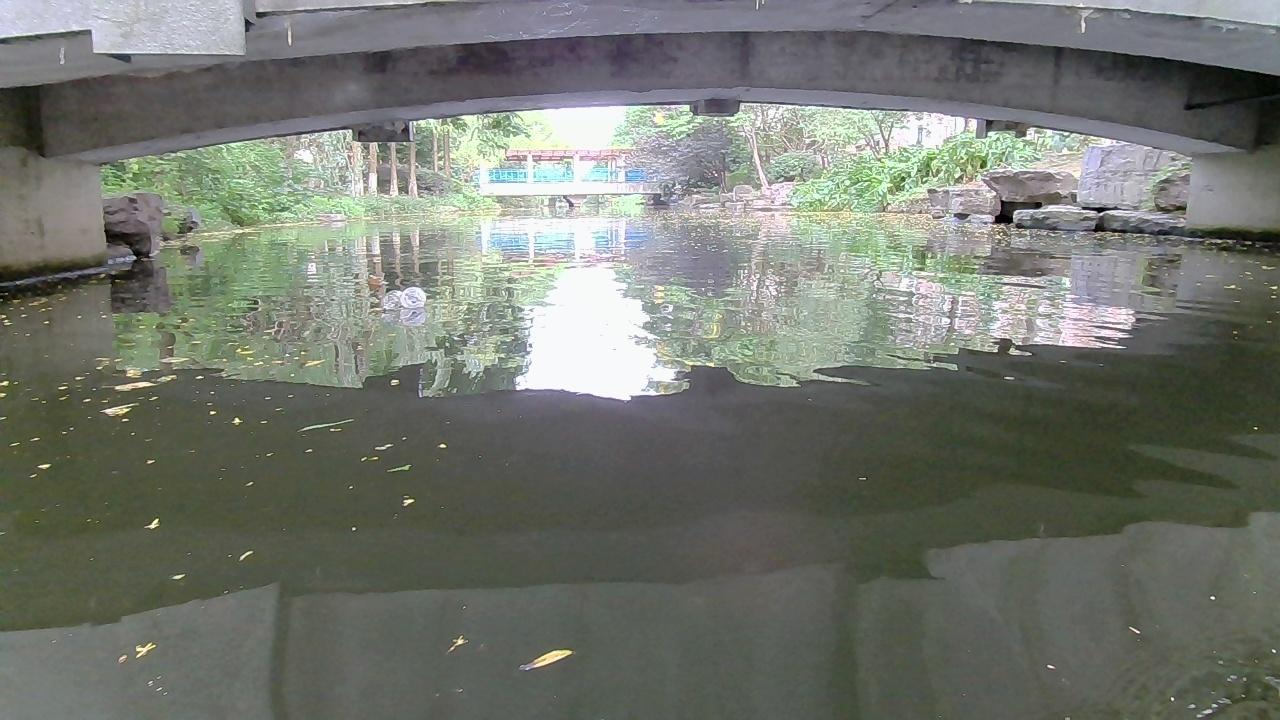bottle: (398, 287, 428, 312), (380, 288, 399, 311), (305, 260, 316, 272)
